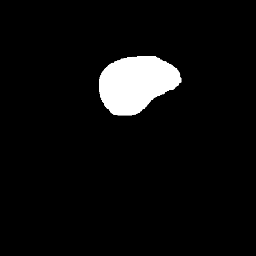mass: (96, 58, 183, 114)
